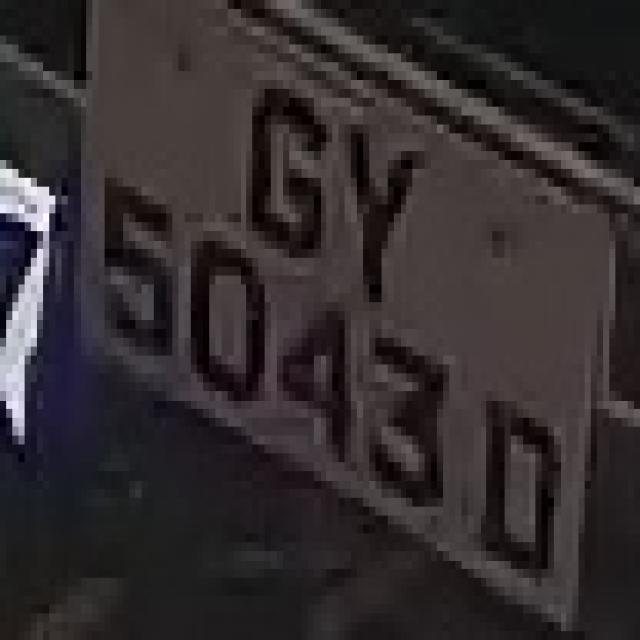0: (172, 205, 271, 426)
3: (351, 284, 455, 524)
4: (271, 240, 363, 471)
5: (105, 134, 172, 382)
D: (456, 364, 566, 596)
G: (234, 54, 338, 294)
Y: (338, 89, 418, 311)
